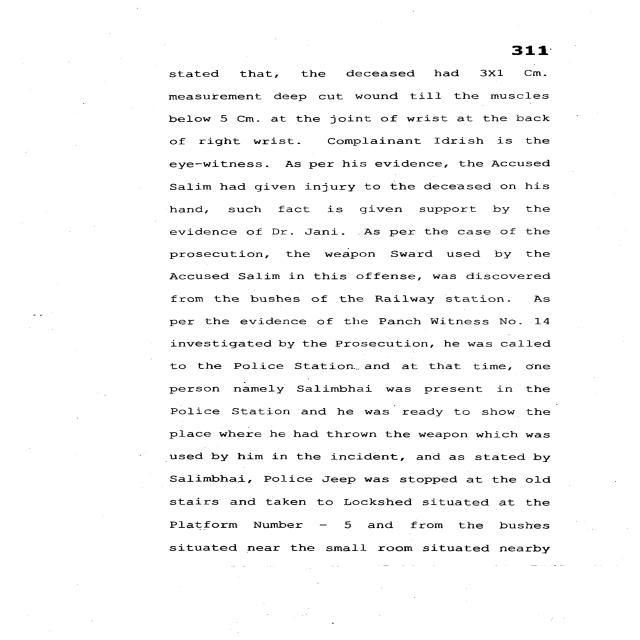page-number: (429, 0, 636, 60)
